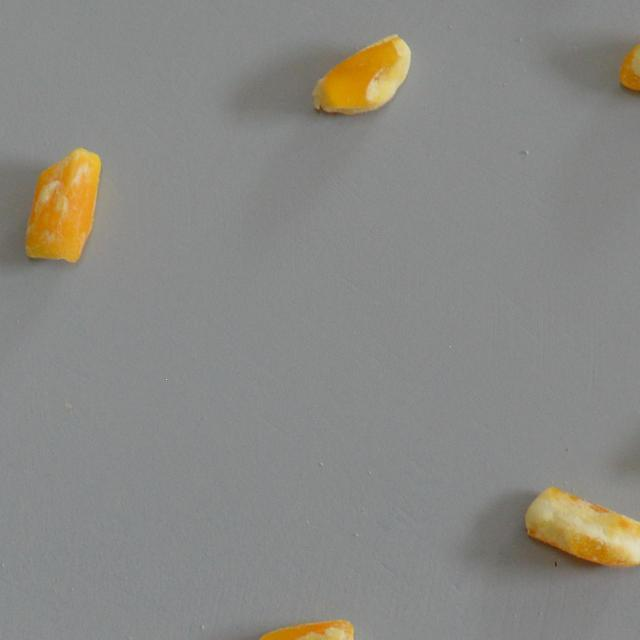estandar: (616, 20, 640, 108)
pelicula: (545, 454, 635, 590), (312, 30, 411, 122), (2, 170, 124, 240), (258, 596, 349, 640)
